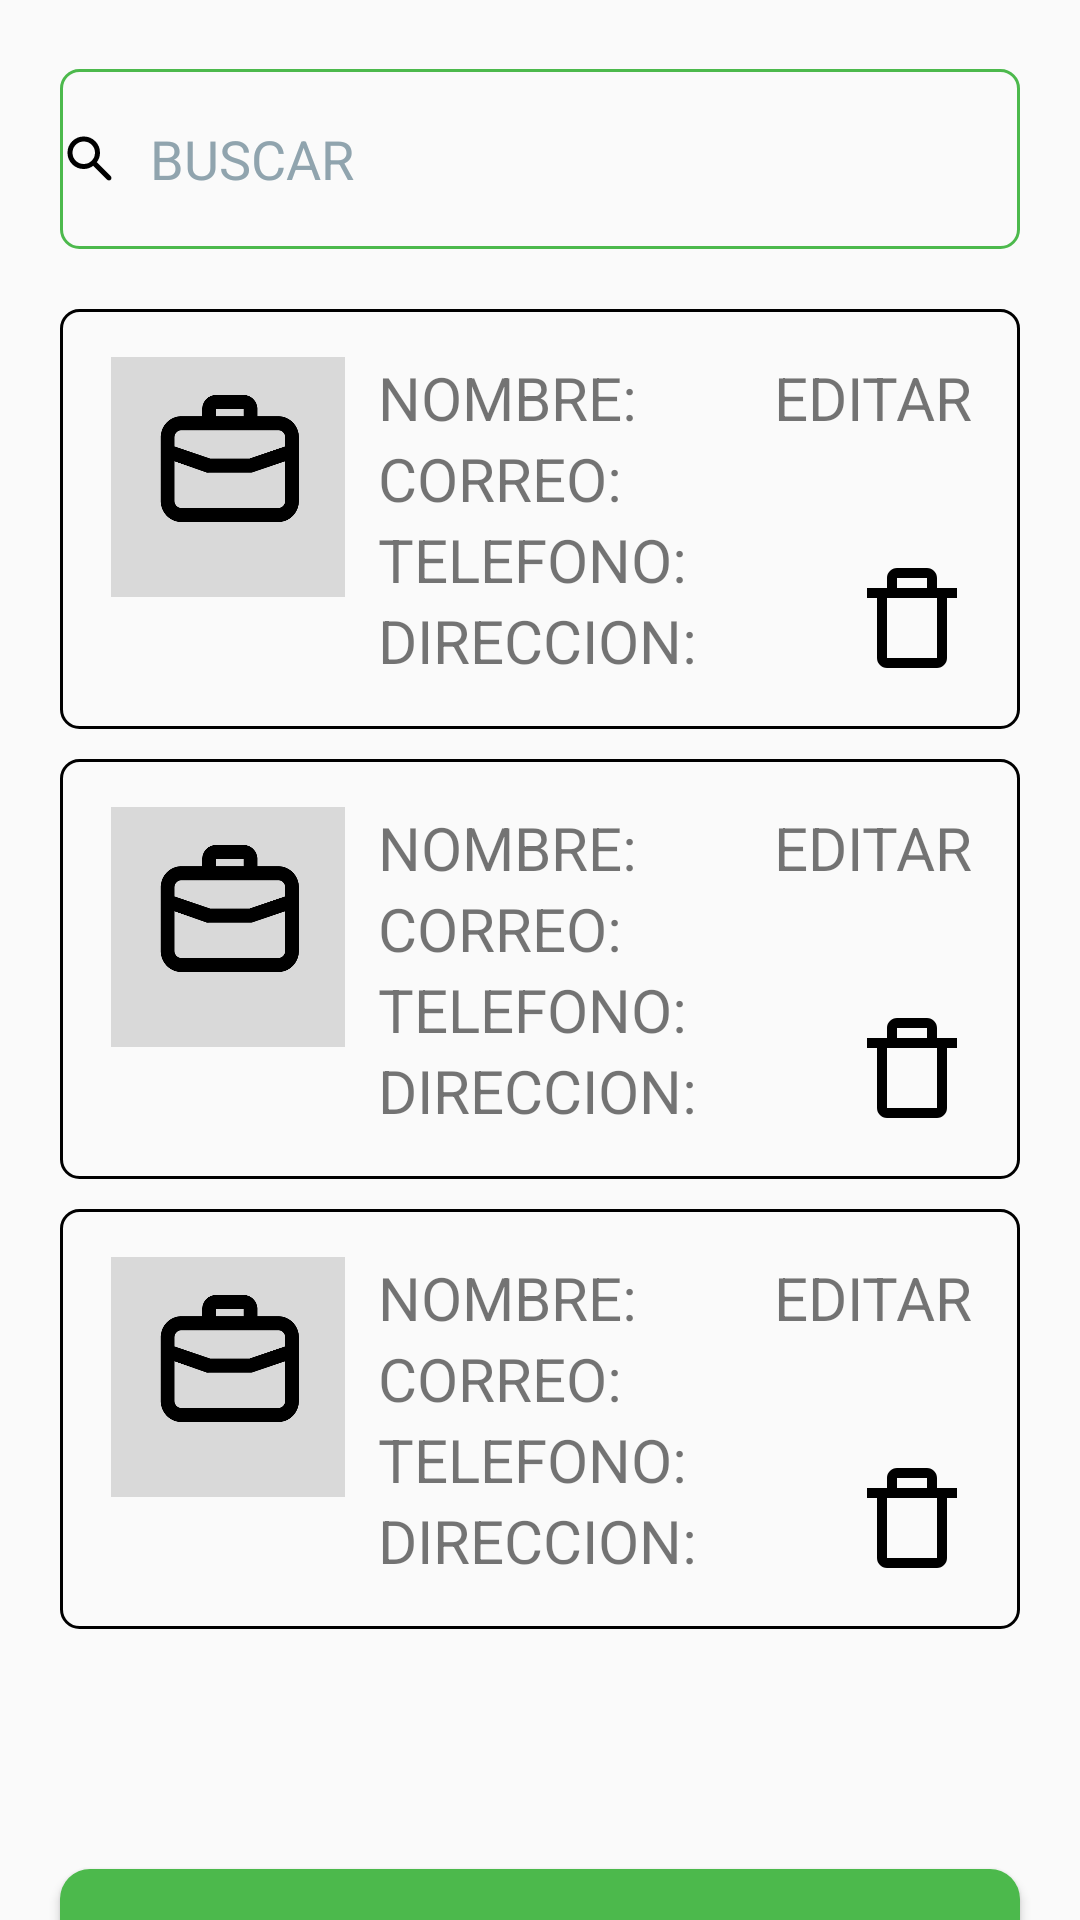

Where to tap for icons on this 1080 x 1920 app screen, as point (x, y):
basura: point (912, 618), point (912, 1068), point (912, 1518)
proveedor: point (228, 477), point (228, 927), point (228, 1377)
